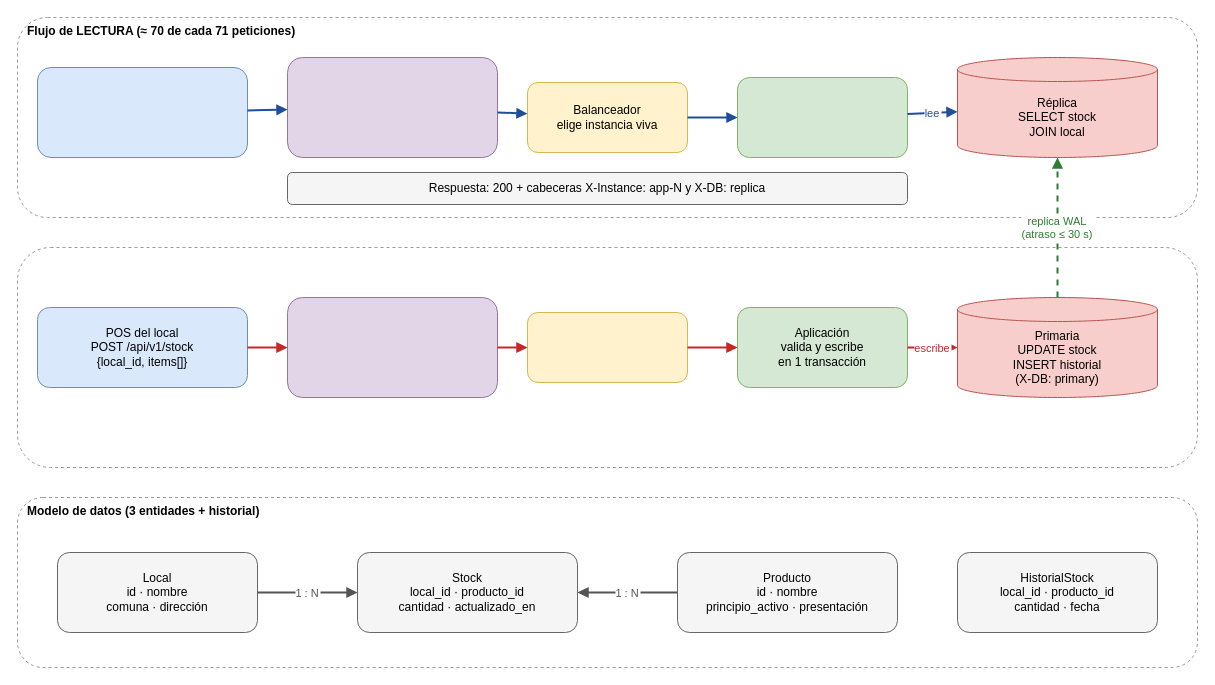
This 1215x685 diagram has some shape labels left out. The box of each missing label's shape, as (x1, y1, x2, y2) in pixels:
API Gateway 1. ruta /api/v1/stock 2. límite 60 req/min (si excede → 429): (286, 56, 498, 158)
API Gateway 1. ruta /api/v1/stock 2. valida API key (si falta → 401): (286, 296, 498, 398)
Aplicación consulta stock por local: (736, 76, 908, 158)
Balanceador: (526, 312, 688, 382)
Cliente web / app GET /api/v1/stock ?producto_id=42: (36, 66, 248, 158)
Flujo de ESCRITURA (sincronización del POS cada 15 min): (16, 246, 1198, 468)
